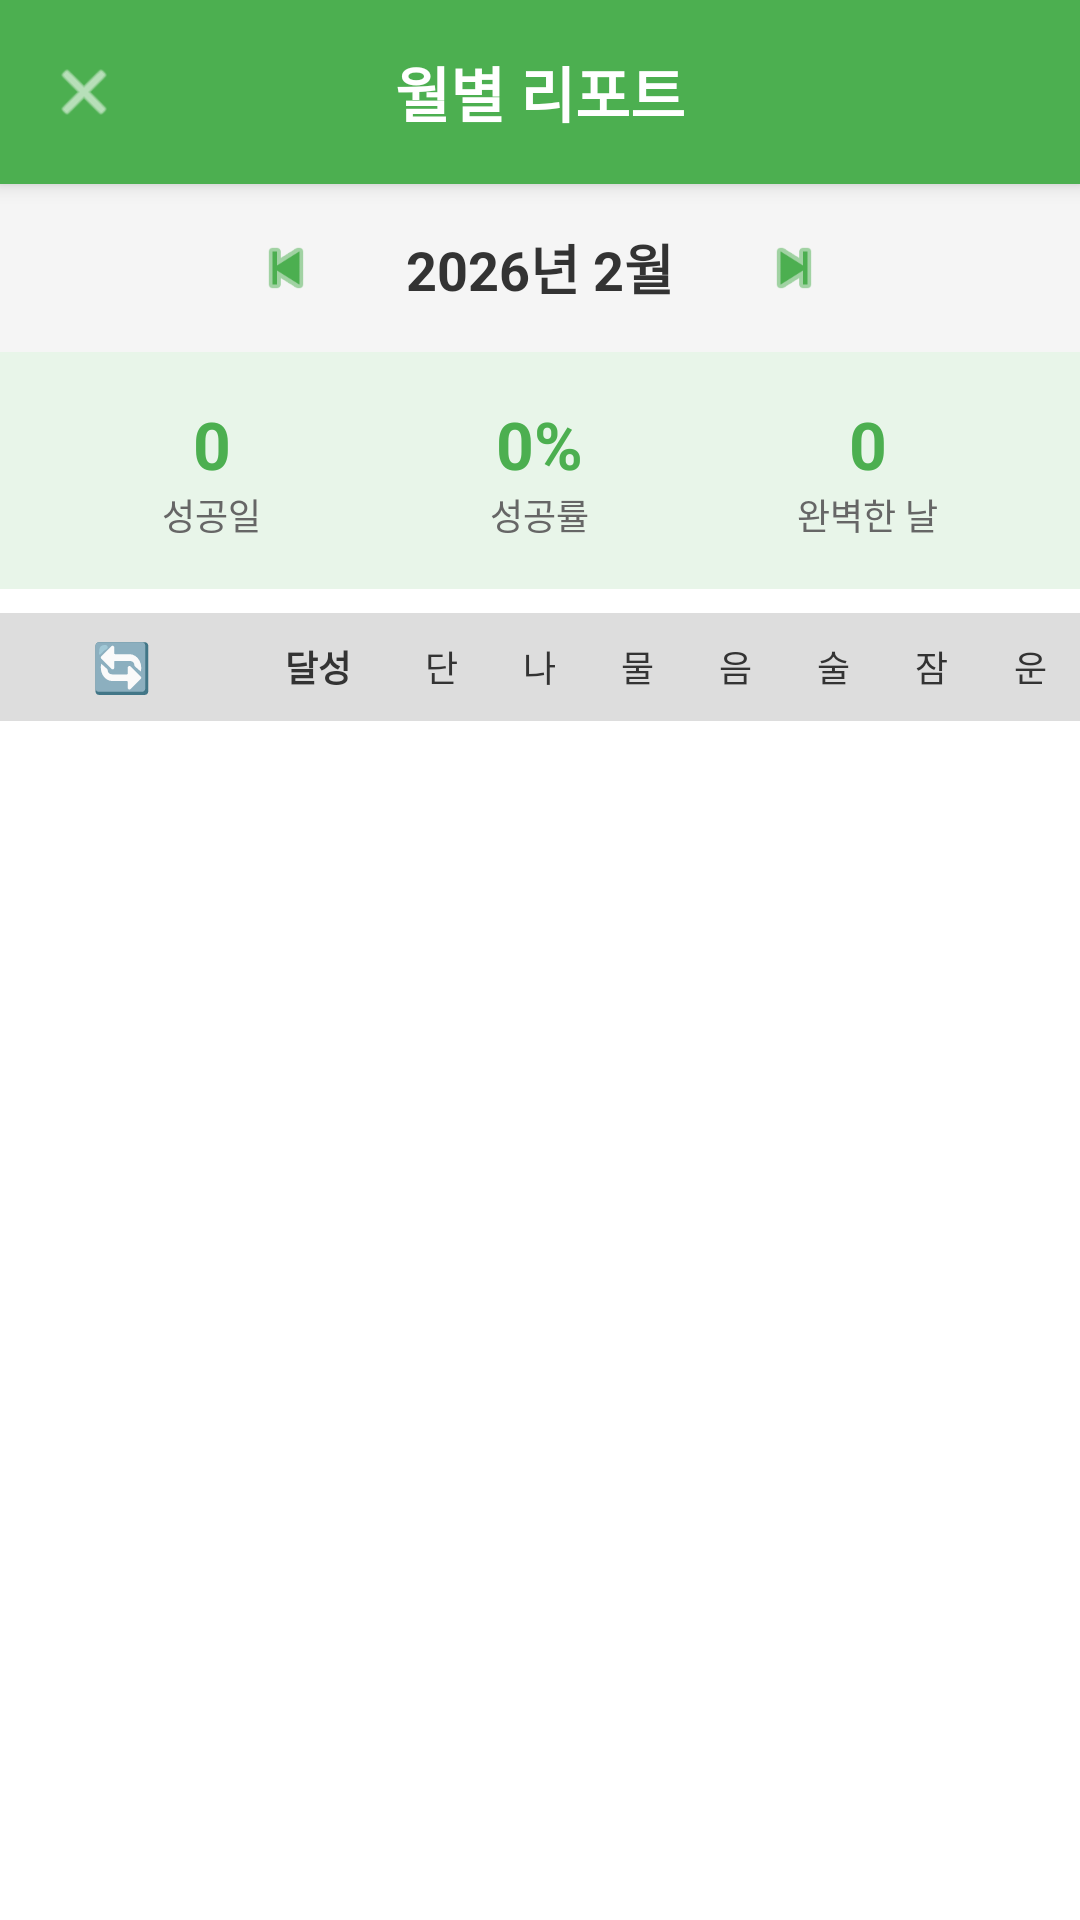

Icon click points for this 1080w x 1920h phone screenshot, format [x,y]:
next: [794,268]
previous: [286,268]
닫기: [84,92]
